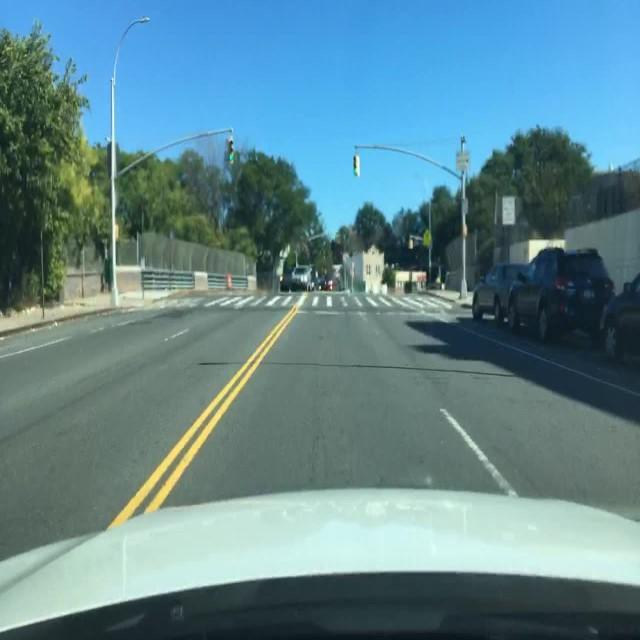normal: (450, 252, 640, 369), (277, 245, 331, 312)
